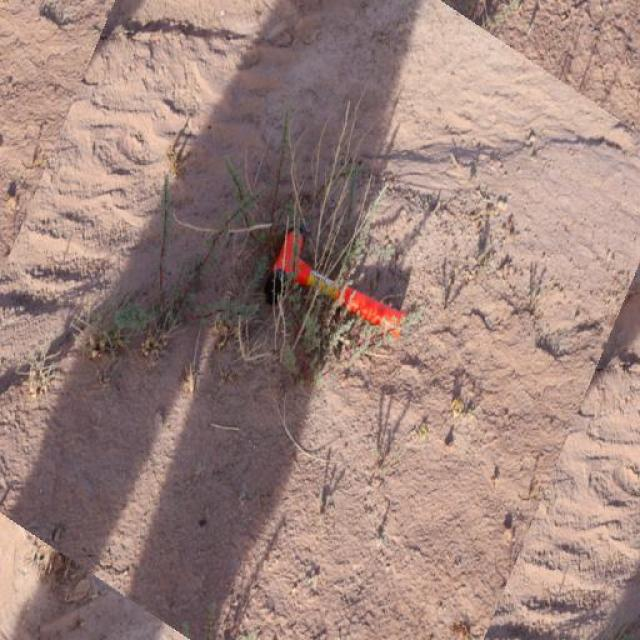mallet: (262, 225, 408, 341)
